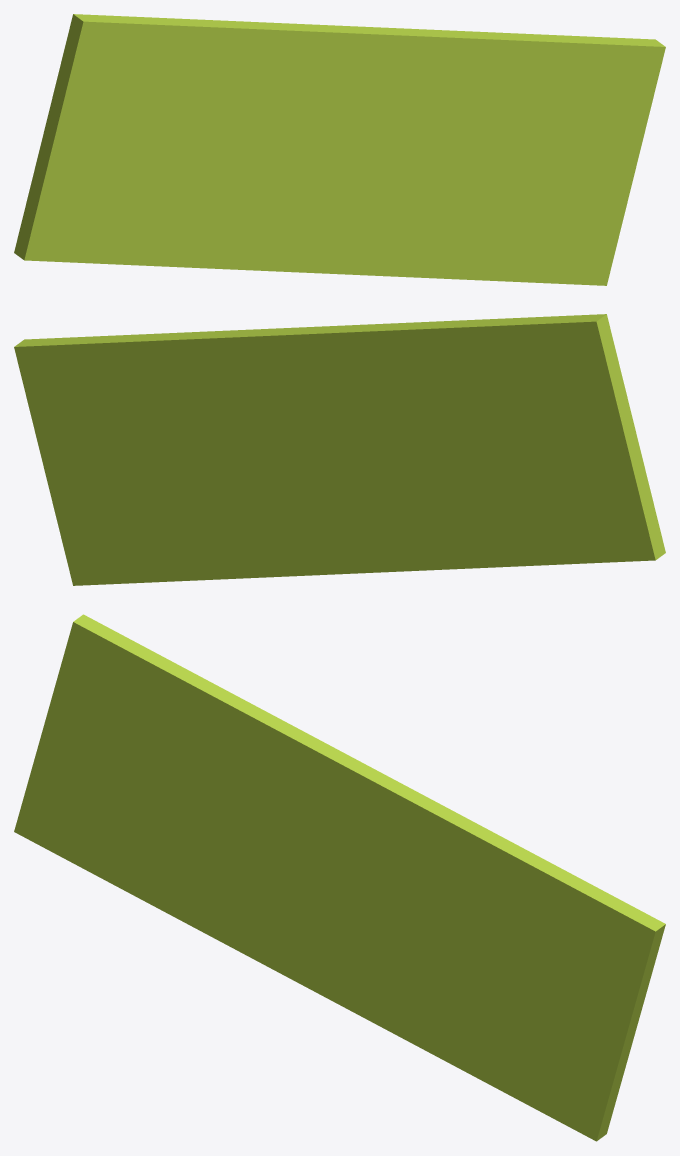
3 views of the same model, one above another, from view 1: azimuth 30°, elevation 25°; view 2: azimuth 150°, elevation 25°; view 3: azimuth 330°, elevation 25° (orthographic).
Visible parts, largest first — view 1: osm-way27917482-F3; view 2: osm-way27917482-F3; view 3: osm-way27917482-F3.
Boxes of the visible parts, x1,y1,x2,y2 form: osm-way27917482-F3: (14,14,665,285); osm-way27917482-F3: (14,314,665,585); osm-way27917482-F3: (14,614,665,1141).
Bounding box in the file's own units: 5.39 × 3.15 × 0.15.
